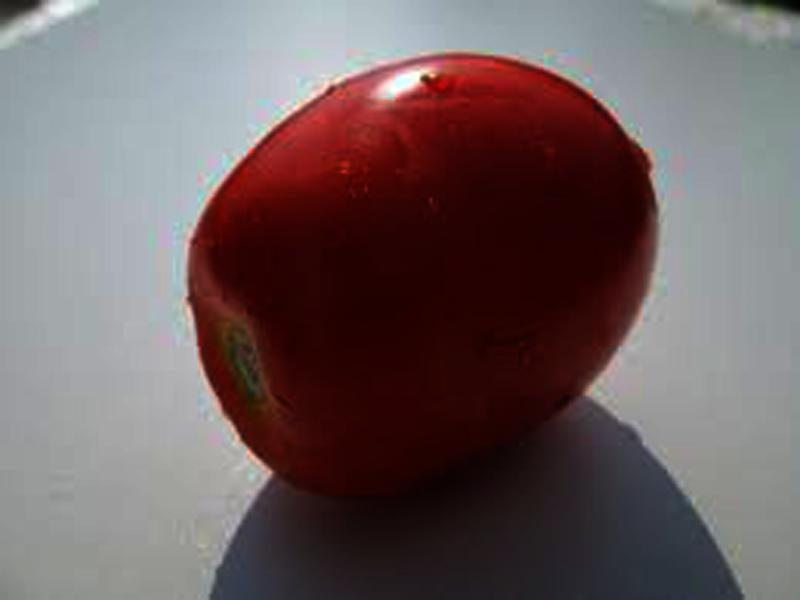Tomato: (188, 53, 655, 495)
